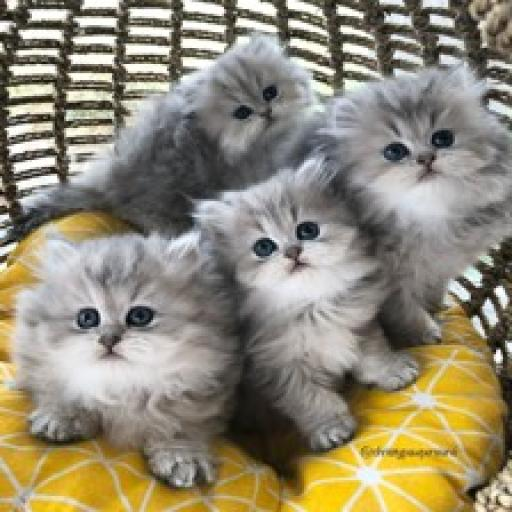cat: (180, 164, 419, 449), (1, 228, 232, 492), (17, 31, 320, 232), (294, 66, 508, 340)
